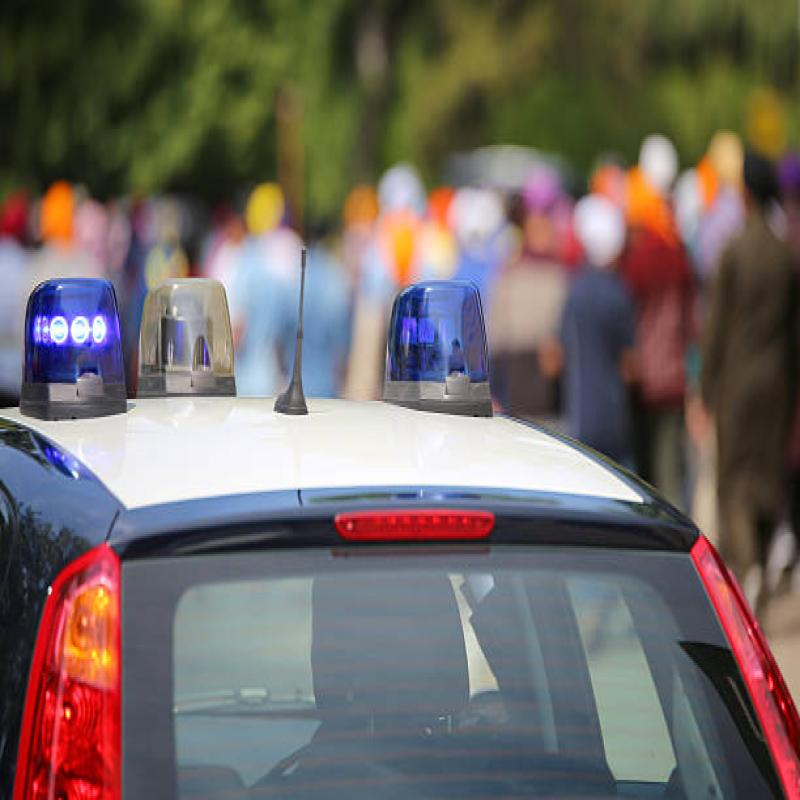AmbulanceSiren: (6, 262, 150, 434), (362, 259, 498, 419), (138, 259, 255, 417)
